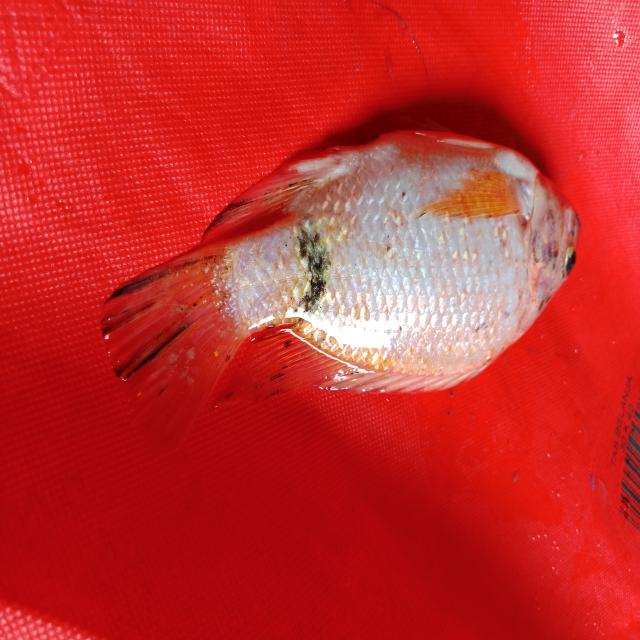ikan: (94, 106, 595, 453)
